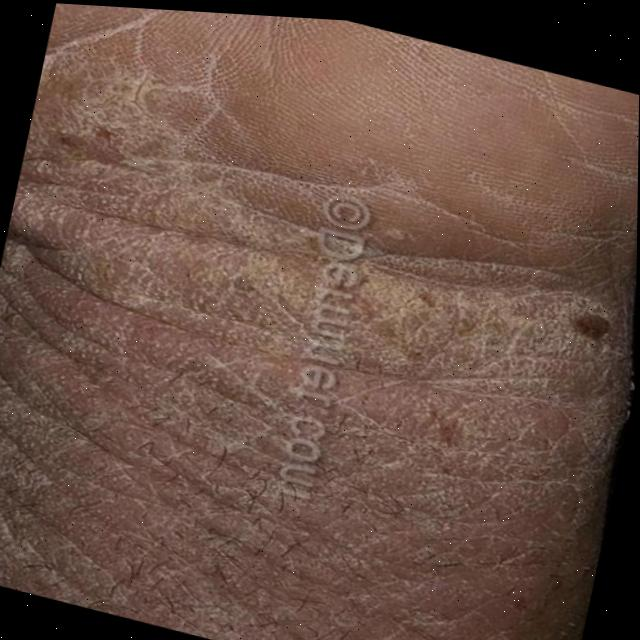Eczema: (0, 56, 639, 640)
